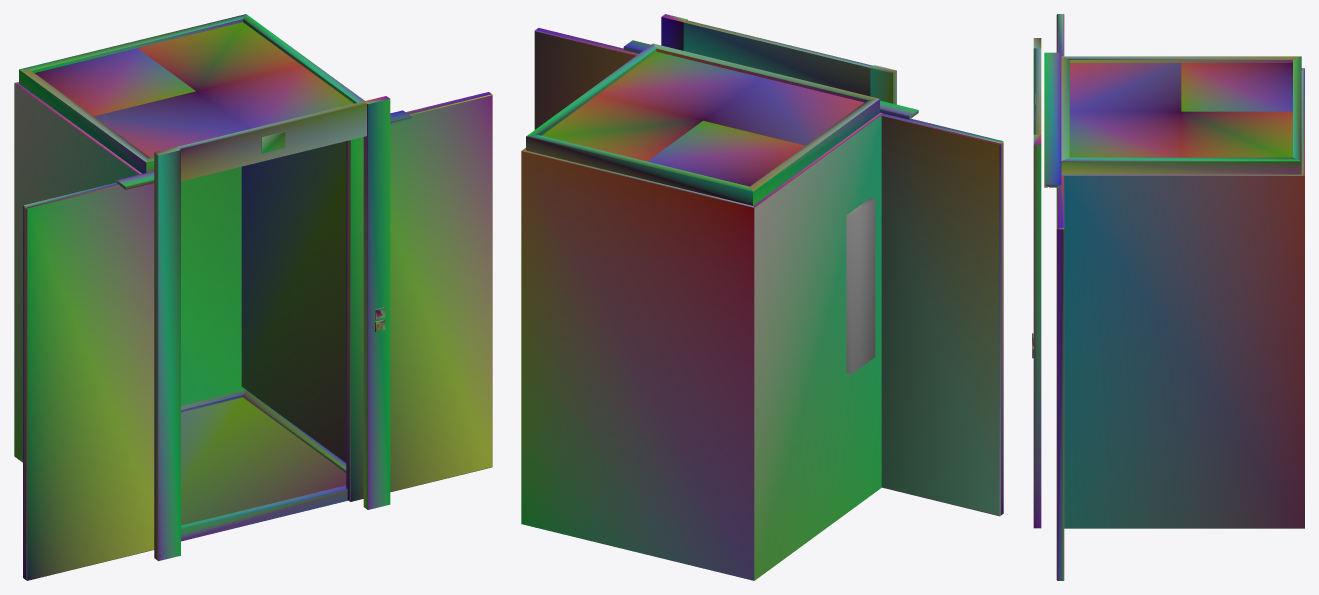
3 renders of one model, left to right at view 1: azimuth 30°, elevation 25°; view 2: azimuth 150°, elevation 25°; view 3: azimuth 270°, elevation 25°, orthographic. The views are drawn at different scales.
Visible parts, largest first — view 1: ElevatorClean_ElevatorCleanShader_0, ElevatorLeftDoor_ElevatorCleanShader_0, ElevatorRightDoor_ElevatorCleanShader_0; view 2: ElevatorClean_ElevatorCleanShader_0, ElevatorLeftDoor_ElevatorCleanShader_0, ElevatorRightDoor_ElevatorCleanShader_0, 1本體; view 3: ElevatorClean_ElevatorCleanShader_0, ElevatorRightDoor_ElevatorCleanShader_0, ElevatorLeftDoor_ElevatorCleanShader_0.
Part boxes in pixels (bbox=[...]): ElevatorClean_ElevatorCleanShader_0: bbox=[14, 14, 411, 560]; ElevatorLeftDoor_ElevatorCleanShader_0: bbox=[23, 182, 154, 580]; ElevatorRightDoor_ElevatorCleanShader_0: bbox=[346, 92, 492, 501]; ElevatorClean_ElevatorCleanShader_0: bbox=[521, 14, 918, 580]; ElevatorLeftDoor_ElevatorCleanShader_0: bbox=[881, 113, 1003, 516]; ElevatorRightDoor_ElevatorCleanShader_0: bbox=[534, 28, 638, 129]; 1本體: bbox=[846, 198, 875, 374]; ElevatorClean_ElevatorCleanShader_0: bbox=[1032, 38, 1304, 528]; ElevatorRightDoor_ElevatorCleanShader_0: bbox=[1056, 176, 1064, 580]; ElevatorLeftDoor_ElevatorCleanShader_0: bbox=[1056, 14, 1064, 56].
Size of the model in its own units: 9293 by 7726 by 4983.
